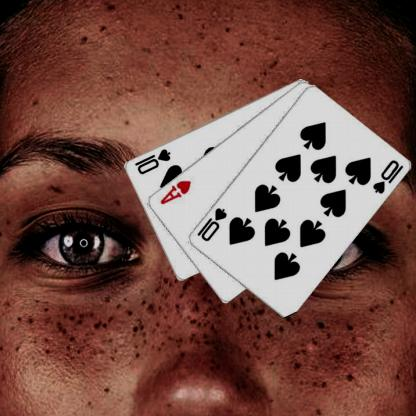10S: (371, 157, 406, 195), (196, 205, 229, 243), (134, 146, 173, 175)
AH: (159, 178, 194, 206)
